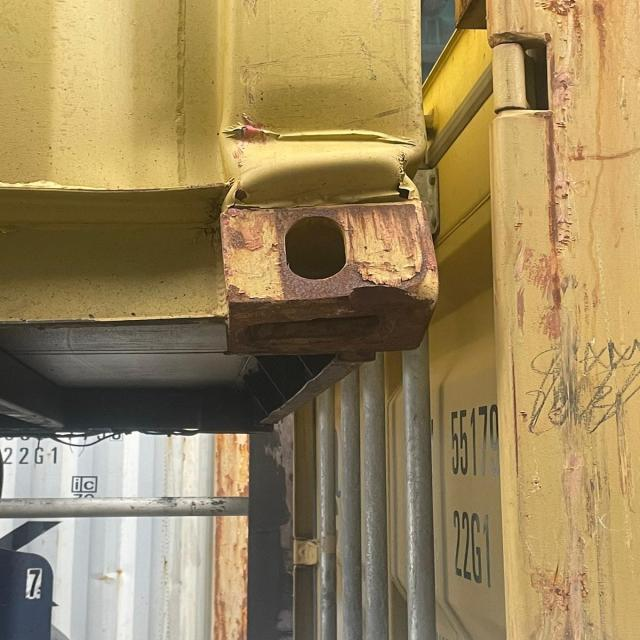dent: (219, 65, 442, 356)
